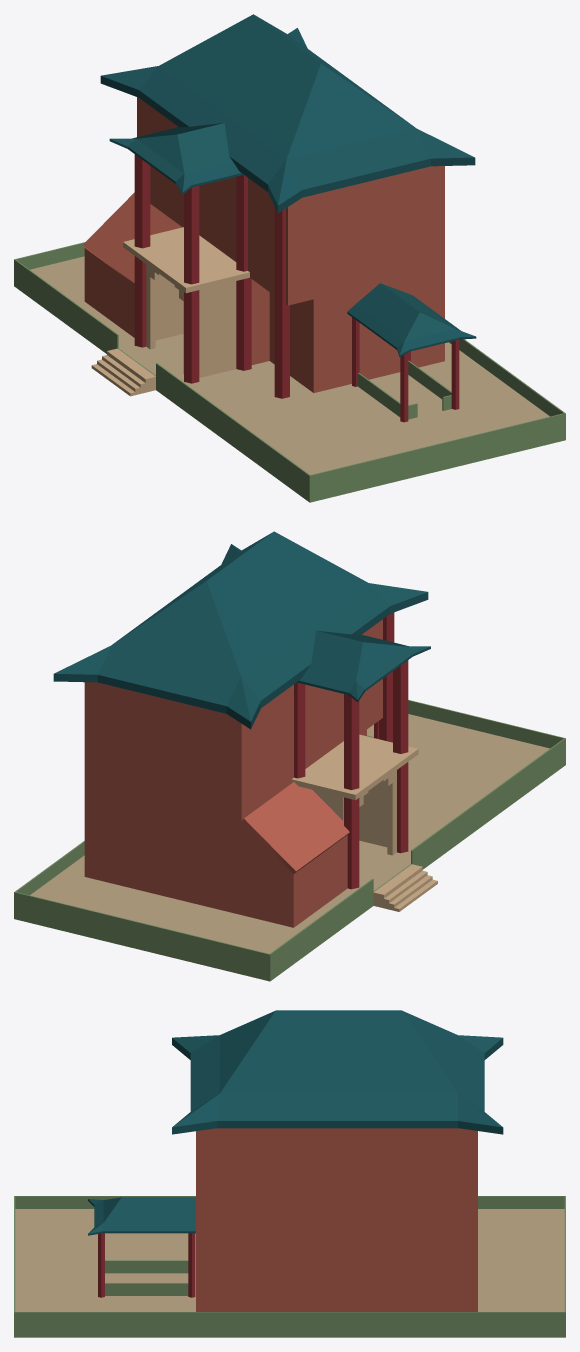
File: UVCloth.fbx
3 views of the same model, one above another, from view 1: azimuth 30°, elevation 25°; view 2: azimuth 150°, elevation 25°; view 3: azimuth 270°, elevation 25° (orthographic). The views are drawn at different scales.
Parts seen in each view (by area): view 1: janganClothes.001; view 2: janganClothes.001; view 3: janganClothes.001.
Boxes of the visible parts, bbox=[...] form: janganClothes.001: bbox=[14, 14, 565, 502]; janganClothes.001: bbox=[14, 531, 565, 981]; janganClothes.001: bbox=[14, 1010, 565, 1337].
Bounding box in the file's own units: 1100 × 1117 × 2000.
